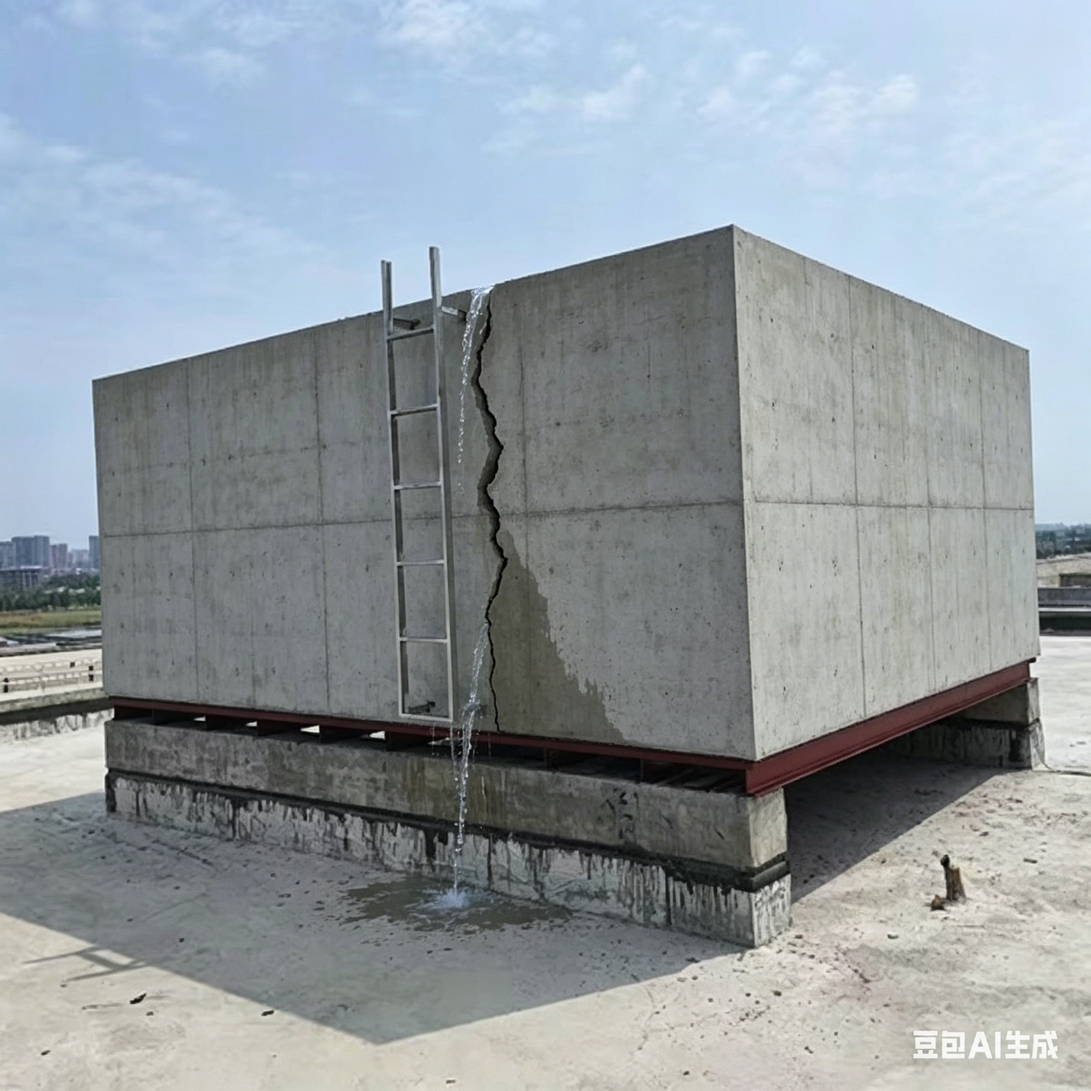Leakage: (437, 287, 513, 929), (519, 574, 622, 748), (347, 874, 433, 929)
